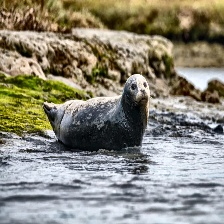seal: (43, 73, 151, 152)
